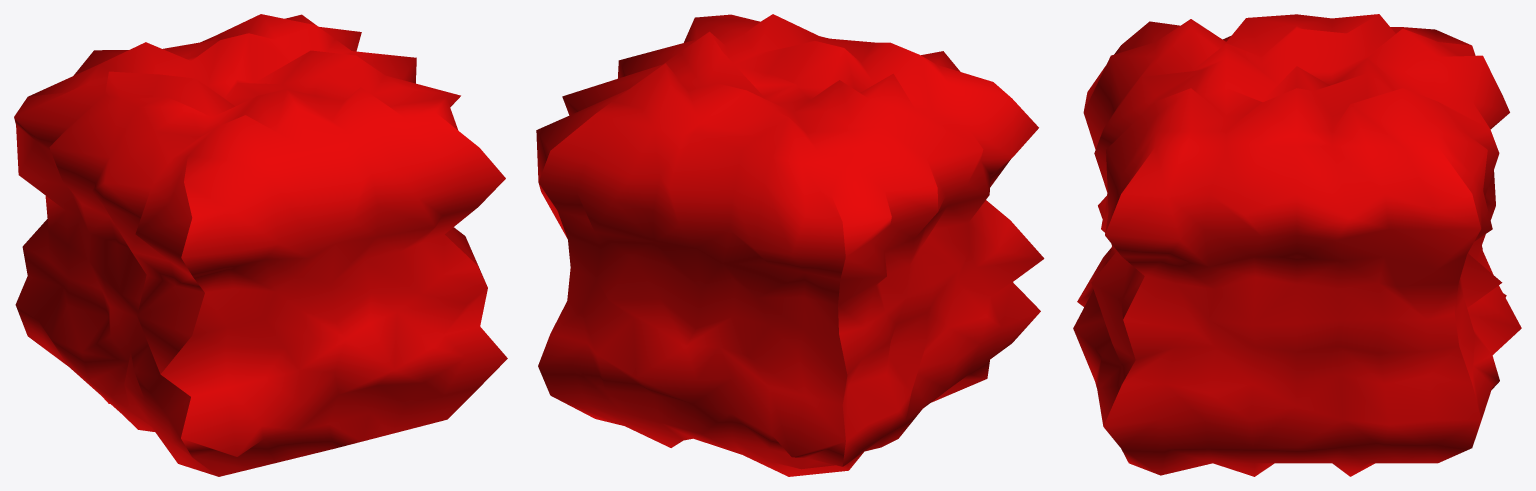
The model's file is cubo carbone.fbx.
3 views of the same model, side by side, from view 1: azimuth 30°, elevation 25°; view 2: azimuth 150°, elevation 25°; view 3: azimuth 270°, elevation 25° (orthographic). The views are drawn at different scales.
Parts seen in each view (by area): view 1: HP__coal; view 2: HP__coal; view 3: HP__coal.
Boxes of the visible parts, <box> form: HP__coal: <box>14,14,507,476</box>; HP__coal: <box>536,14,1044,476</box>; HP__coal: <box>1073,14,1521,476</box>.
Size of the model in its own units: 0.832 by 0.7621 by 0.8286.
